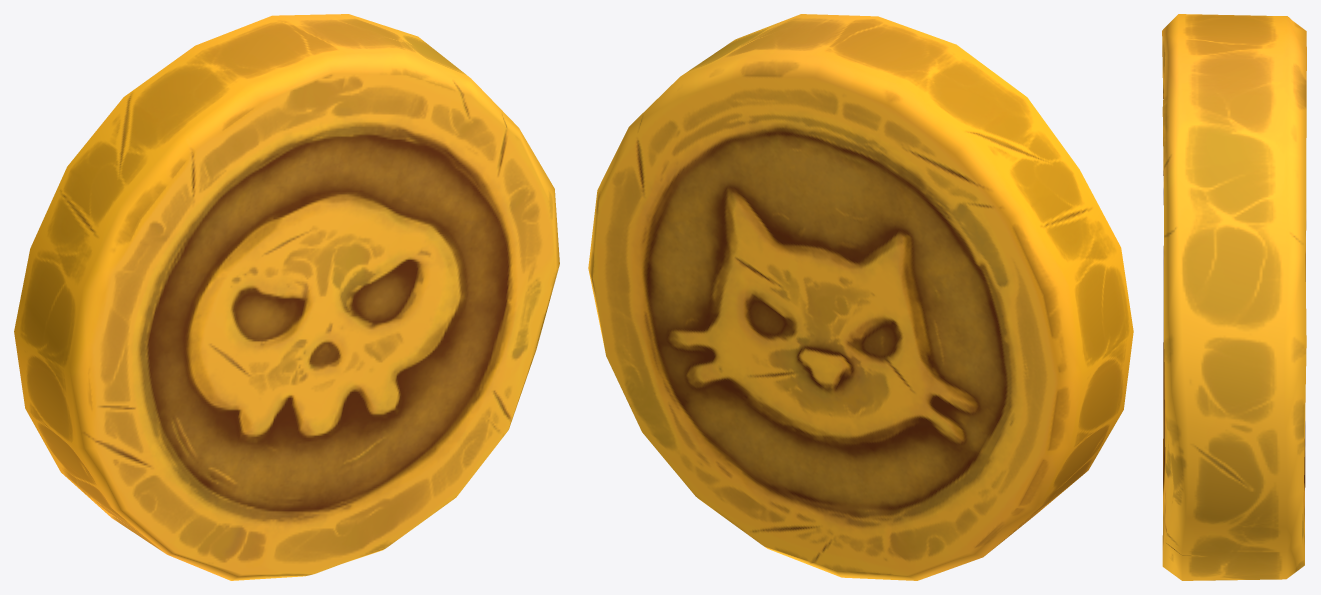
Rendered from coin.glb.
3 views of the same model, side by side, from view 1: azimuth 30°, elevation 25°; view 2: azimuth 150°, elevation 25°; view 3: azimuth 270°, elevation 25° (orthographic).
Parts seen in each view (by area): view 1: Cylinder.015; view 2: Cylinder.015; view 3: Cylinder.015.
Part boxes in pixels (x1=…): Cylinder.015: x1=14, y1=14, x2=559, y2=580; Cylinder.015: x1=588, y1=14, x2=1133, y2=580; Cylinder.015: x1=1162, y1=14, x2=1306, y2=580.
Bounding box in the file's own units: 0.321 × 0.3211 × 0.0813.
1 material, 1 textured.
